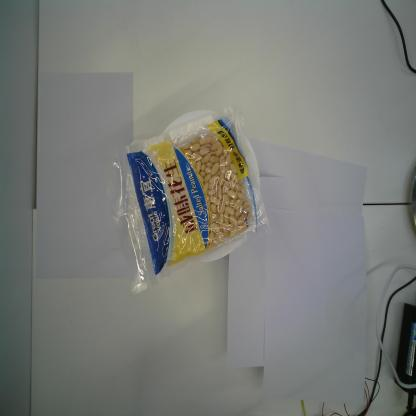Dried Fruit: (105, 97, 273, 296)
